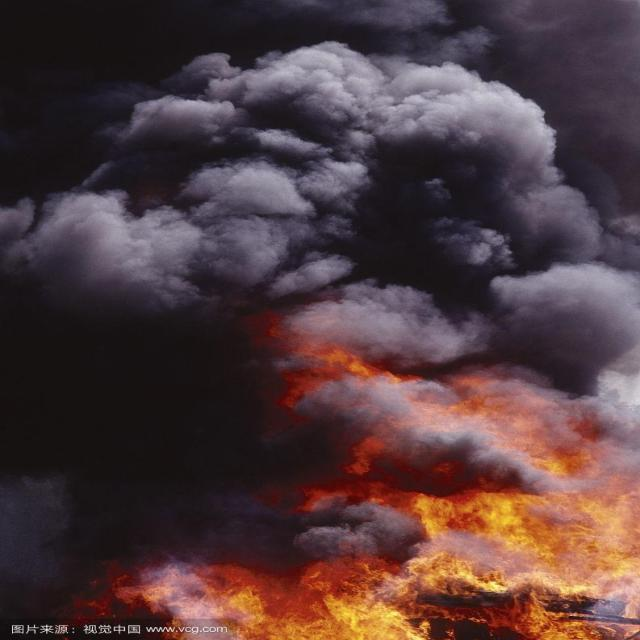Fire: (75, 311, 640, 640)
Smoke: (1, 1, 638, 640)
